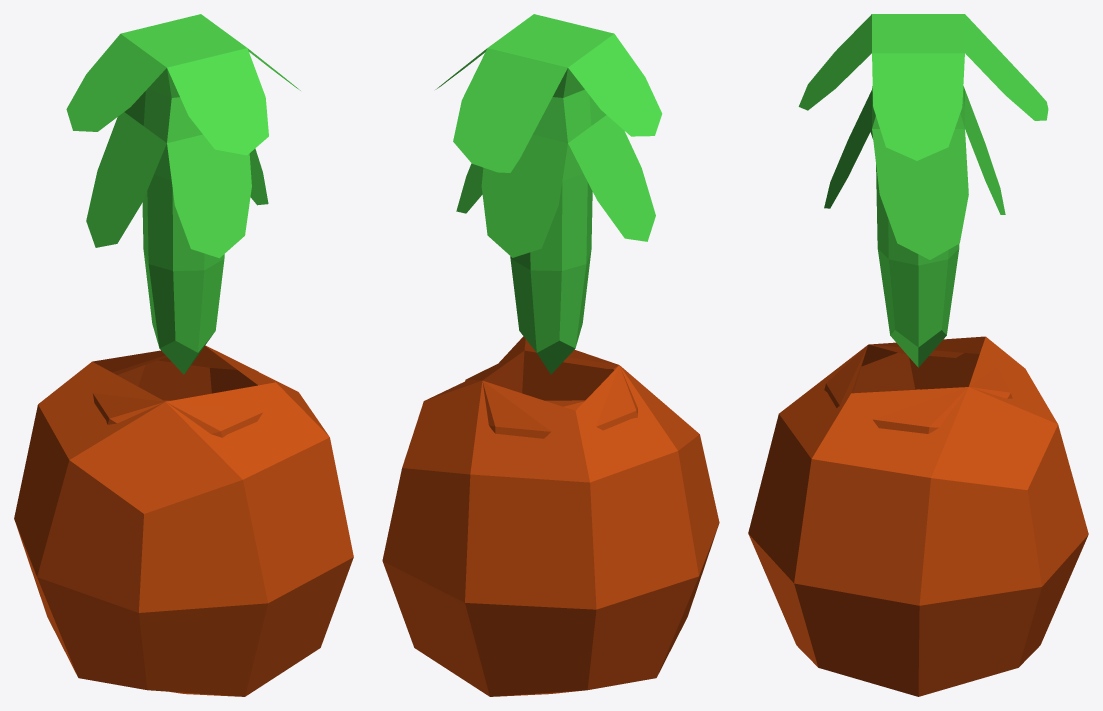
The model's file is espinaca.glb.
3 views of the same model, side by side, from view 1: azimuth 30°, elevation 25°; view 2: azimuth 150°, elevation 25°; view 3: azimuth 270°, elevation 25° (orthographic).
Visible parts, largest first — view 1: Cube; view 2: Cube; view 3: Cube.
Part boxes in pixels (x1,y1,x2,y2): Cube: [14, 14, 353, 696]; Cube: [382, 14, 719, 696]; Cube: [748, 14, 1088, 696].
Size of the model in its own units: 0.2263 by 0.4791 by 0.2263.
Materials: 1 (1 with a texture image).
